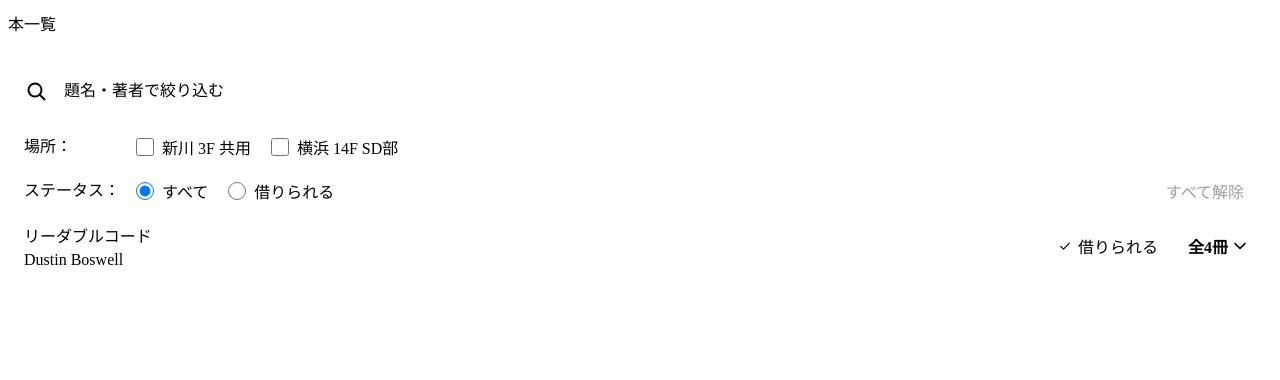
Test: BookListPage（同じ本が何冊もあるときの絞り込み） › FC-88: 条件なしで開くと、トグルは「全n冊」、置き場所ごとに「残りn冊」と、その置き場所の冊数「／m冊」を出す
Expected: the text "全4冊" is shown, [1188,234,1228,258]
Click the button "リーダブルコード Dustin Boswell 借りられる 全4冊" at (88, 236), box [8,211,1272,281]
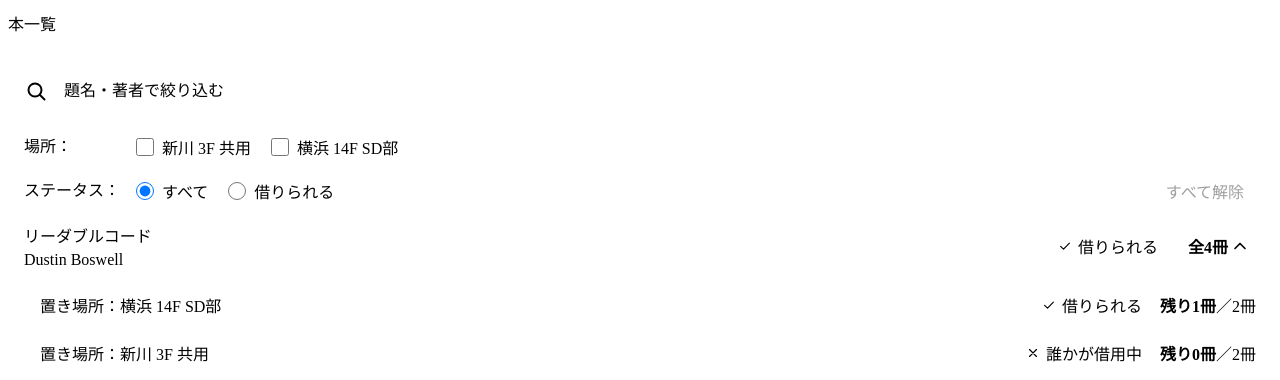
Result: the link "置き場所：横浜 14F SD部 借りられる 残り1冊／2冊" is shown at [40,298,1256,315]
Result: the link "置き場所：新川 3F 共用 誰かが借用中 残り0冊／2冊" is shown at [40,346,1256,363]
